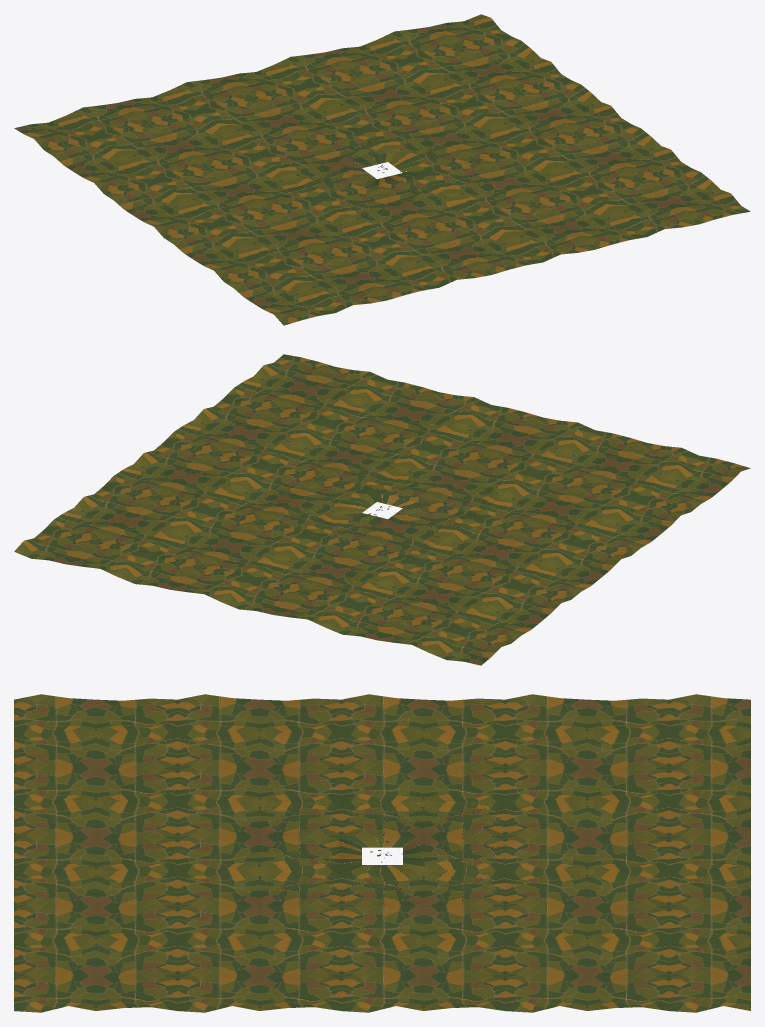
Rendered from houses_2.glb.
3 views of the same model, one above another, from view 1: azimuth 30°, elevation 25°; view 2: azimuth 150°, elevation 25°; view 3: azimuth 270°, elevation 25° (orthographic). The views are drawn at different scales.
Visible parts, largest first — view 1: Plane.001; view 2: Plane.001; view 3: Plane.001, Trees.
Boxes of the visible parts, bbox=[...] form: Plane.001: bbox=[14, 14, 750, 325]; Plane.001: bbox=[14, 354, 750, 665]; Plane.001: bbox=[14, 694, 750, 1012]; Trees: bbox=[260, 801, 505, 905].
Size of what is drawn, in the model's own units: 7200 by 100 by 7200.
20 materials, 20 textured.
